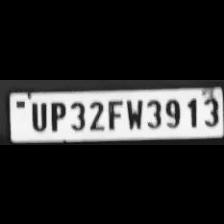1: (182, 94, 200, 128)
2: (86, 97, 104, 131)
3: (66, 97, 86, 130), (200, 93, 220, 126), (144, 96, 162, 128)
9: (162, 96, 182, 128)
F: (104, 96, 122, 130)
P: (46, 99, 66, 131)
U: (26, 99, 48, 131)
W: (123, 96, 143, 130)
